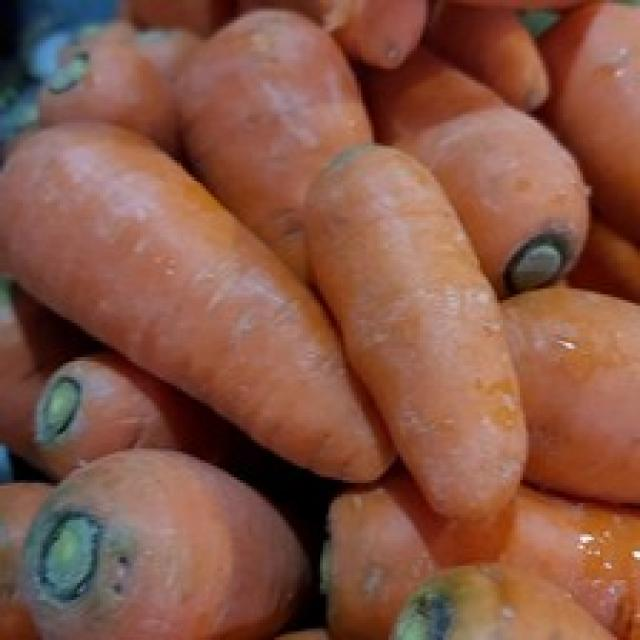Fresh_Carrot: (0, 126, 393, 483), (318, 146, 520, 507), (181, 0, 378, 309), (377, 51, 601, 307), (21, 452, 323, 640), (316, 490, 640, 640), (52, 351, 292, 524), (497, 287, 640, 501), (32, 35, 185, 158)
